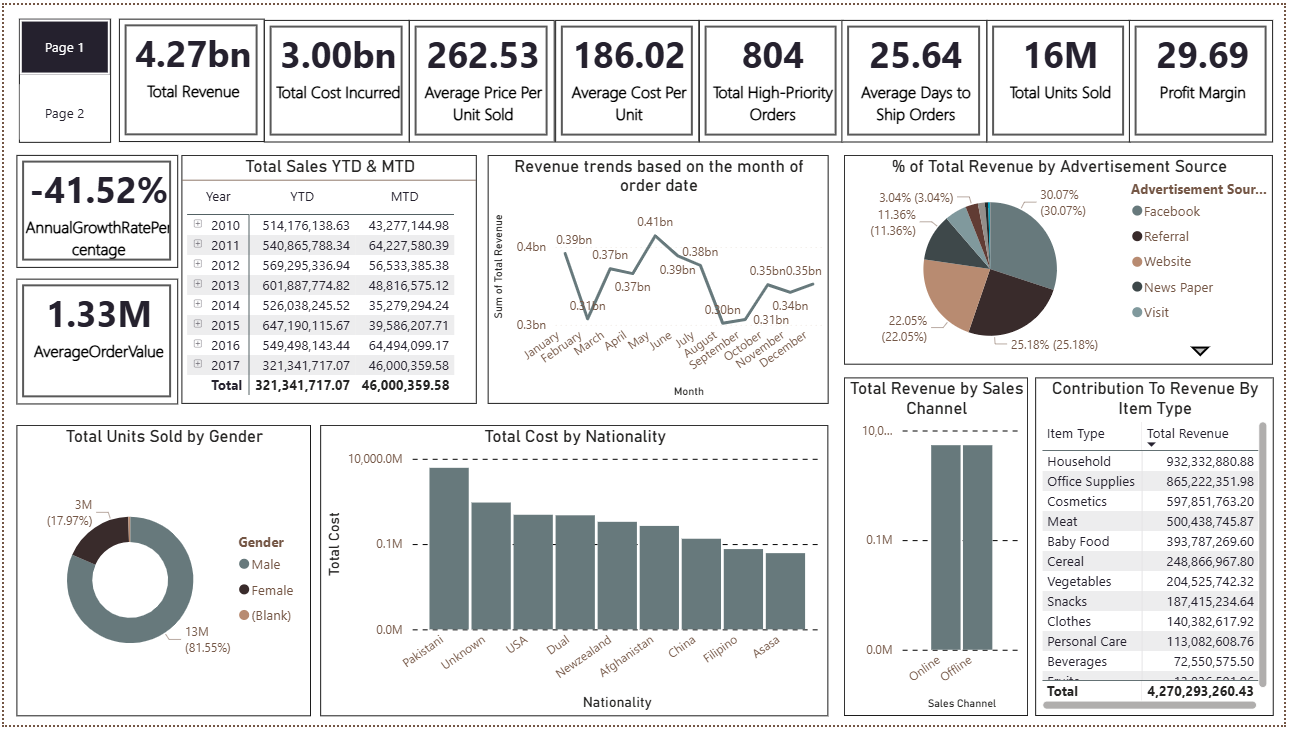

Layout of this report page (visuals, bound fields, positions):
{"tool":"powerbi","page":{"name":"Page 1","canvas":[1280,720],"ordinal":0},"visuals":[{"type":"cardVisual","title":"Total Revenue","fields":{"Data":["Sum(5000 Sales Records.Total Revenue)"]},"box":[114.4,13.5,145.5,123.5],"z":0},{"type":"columnChart","fields":{"Category":["5000 Sales Records.Nationality"],"Y":["5000 Sales Records.Total_Cost"]},"box":[316.4,419.6,508.3,291.5],"z":1000},{"type":"cardVisual","title":"Total Revenue","fields":{"Data":["Sum(5000 Sales Records.Total Cost)"]},"box":[259.9,14.7,145.5,122.3],"z":2000},{"type":"donutChart","title":"Total Units Sold by Gender","fields":{"Category":["5000 Sales Records.Gender"],"Y":["Sum(5000 Sales Records.Units Sold)"]},"box":[12.2,419.6,294.1,291.5],"z":3000},{"type":"cardVisual","title":"Total Revenue","fields":{"Data":["5000 Sales Records.Average_Price_Per_Unit"]},"box":[405.4,14.7,145.5,122.3],"z":4000},{"type":"pieChart","fields":{"Category":["5000 Sales Records.Advertisement Source"],"Y":["Divide(Sum(5000 Sales Records.Total Revenue), ScopedEval(Sum(5000 Sales Records.Total Revenue), []))"]},"box":[839.7,150.5,429.1,209.6],"z":5000},{"type":"cardVisual","title":"Total Revenue","fields":{"Data":["Avg(5000 Sales Records.Unit Cost)"]},"box":[550.9,14.7,144.3,122.3],"z":6000},{"type":"tableEx","title":"Contribution To Revenue By Item Type","fields":{"Values":["5000 Sales Records.Item Type","Sum(5000 Sales Records.Total Revenue)"]},"box":[1031.3,372.7,238.3,338.4],"z":7000},{"type":"cardVisual","title":"Total Revenue","fields":{"Data":["Sum(5000 Sales Records.Units Sold)"]},"box":[982.6,14.7,144.3,122.3],"z":8000},{"type":"pivotTable","title":"Total Sales YTD & MTD","fields":{"Rows":["Calander.Date.Variation.Date Hierarchy.Year","Calander.Date.Variation.Date Hierarchy.Quarter","Calander.Date.Variation.Date Hierarchy.Month","Calander.Date.Variation.Date Hierarchy.Day"],"Values":["5000 Sales Records.YTD","5000 Sales Records.MTD"]},"box":[177.1,150.5,295.4,249],"z":9000},{"type":"lineChart","title":" Revenue trends based on the month of order date","fields":{"Category":["Calander.Date.Variation.Date Hierarchy.Month"],"Y":["Sum(5000 Sales Records.Total Revenue)"]},"box":[483.8,150.5,340.5,249],"z":10000},{"type":"cardVisual","title":"Total Revenue","fields":{"Data":["5000 Sales Records.Profit Margin"]},"box":[1124.5,14.7,144.3,122.3],"z":11000},{"type":"columnChart","title":"Total Revenue by Sales Channel","fields":{"Category":["Sheet2.Sales Channel"],"Y":["Sum(5000 Sales Records.Total Revenue)"]},"box":[839.9,372.7,183.8,338.4],"z":12000},{"type":"pageNavigator","box":[15.4,13.5,92,123.9],"z":13000},{"type":"cardVisual","title":"Total Revenue","fields":{"Data":["CountNonNull(5000 Sales Records.Order Priority)"]},"box":[695.2,14.7,144.3,122.3],"z":14000},{"type":"cardVisual","title":"Total Revenue","fields":{"Data":["Avg(5000 Sales Records.Days to Ship)"]},"box":[837.1,14.7,145.5,122.3],"z":15000},{"type":"cardVisual","fields":{"Data":["5000 Sales Records.AnnualGrowthRatePercentage"]},"box":[12.5,150,161.6,112.5],"z":16000},{"type":"cardVisual","fields":{"Data":["5000 Sales Records.AverageOrderValue"]},"box":[12.5,274.2,161.6,125.4],"z":17000}]}

Visuals, with their boxes in screenshot pixels (x1, y1, x2, y2), scaled from the page's 1280x720 canvas onto the 1290x731 screenshot:
"Total Revenue" cardVisual: box(115, 14, 262, 139)
columnChart - 5000 Sales Records.Nationality x 5000 Sales Records.Total_Cost: box(319, 426, 831, 722)
"Total Revenue" cardVisual: box(262, 15, 409, 139)
"Total Units Sold by Gender" donutChart: box(12, 426, 309, 722)
"Total Revenue" cardVisual: box(409, 15, 555, 139)
pieChart - 5000 Sales Records.Advertisement Source x Divide(Sum(5000 Sales Records.Total Revenue), ScopedEval(Sum(5000 Sales Records.Total Revenue), [])): box(846, 153, 1279, 366)
"Total Revenue" cardVisual: box(555, 15, 701, 139)
"Contribution To Revenue By Item Type" tableEx: box(1039, 378, 1280, 722)
"Total Revenue" cardVisual: box(990, 15, 1136, 139)
"Total Sales YTD & MTD" pivotTable: box(178, 153, 476, 406)
" Revenue trends based on the month of order date" lineChart: box(488, 153, 831, 406)
"Total Revenue" cardVisual: box(1133, 15, 1279, 139)
"Total Revenue by Sales Channel" columnChart: box(846, 378, 1032, 722)
pageNavigator: box(16, 14, 108, 139)
"Total Revenue" cardVisual: box(701, 15, 846, 139)
"Total Revenue" cardVisual: box(844, 15, 990, 139)
cardVisual - 5000 Sales Records.AnnualGrowthRatePercentage: box(13, 152, 175, 267)
cardVisual - 5000 Sales Records.AverageOrderValue: box(13, 278, 175, 406)
